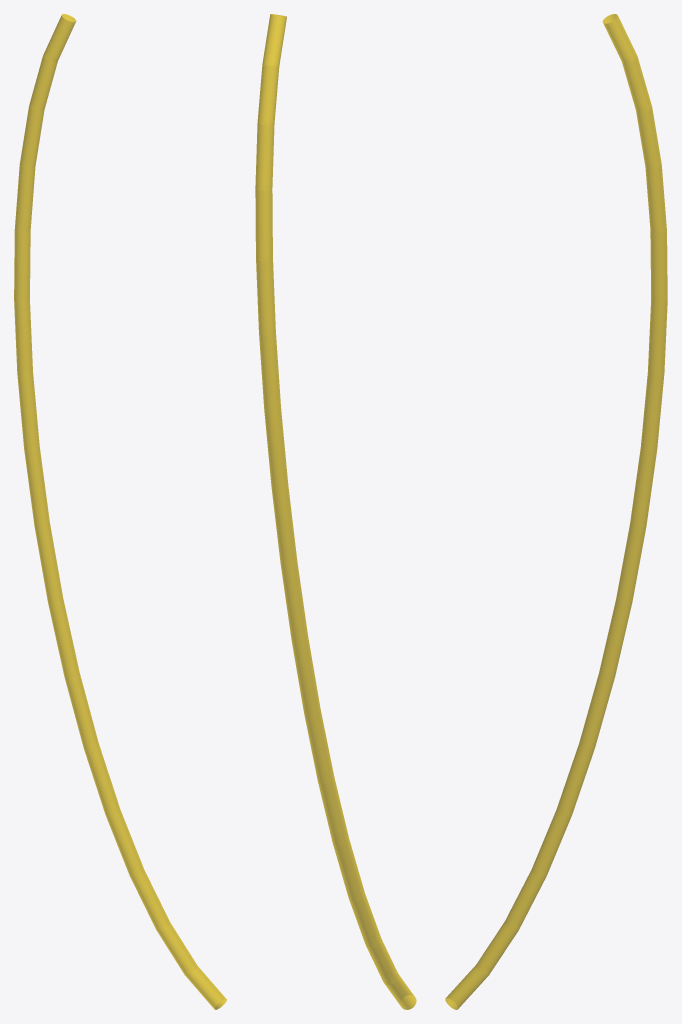
File: Event_27938768_track_19.fbx
The picture shows the model from 3 angles, left to right: view 1: azimuth 90°, elevation 25°; view 2: azimuth 150°, elevation 25°; view 3: azimuth 270°, elevation 25°; orthographic projection. The views are drawn at different scales.
Parts seen in each view (by area): view 1: Model; view 2: Model; view 3: Model.
Boxes of the visible parts, x1,y1,x2,y2 form: Model: [14, 14, 226, 1009]; Model: [255, 14, 416, 1009]; Model: [445, 14, 667, 1009].
Size of the model in its own units: 0.1706 by 2.69 by 0.5343.
